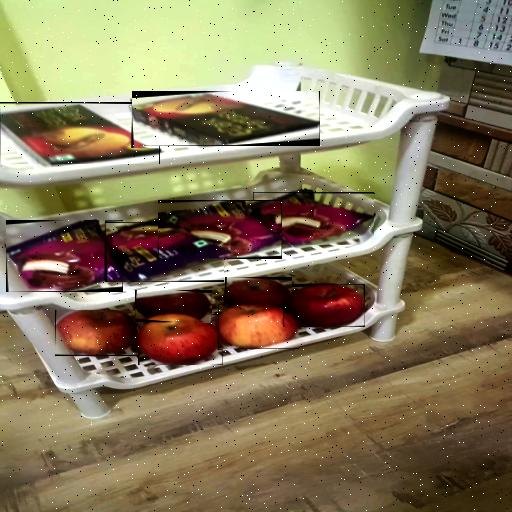Apple: (138, 314, 223, 365), (55, 310, 137, 356), (218, 304, 299, 349), (283, 284, 365, 327), (135, 290, 212, 322), (225, 277, 292, 308)
Choco Fills: (132, 91, 320, 146), (0, 102, 160, 164)
Choco Pie: (6, 220, 123, 292), (105, 222, 224, 282), (158, 201, 282, 258), (253, 192, 374, 245)
